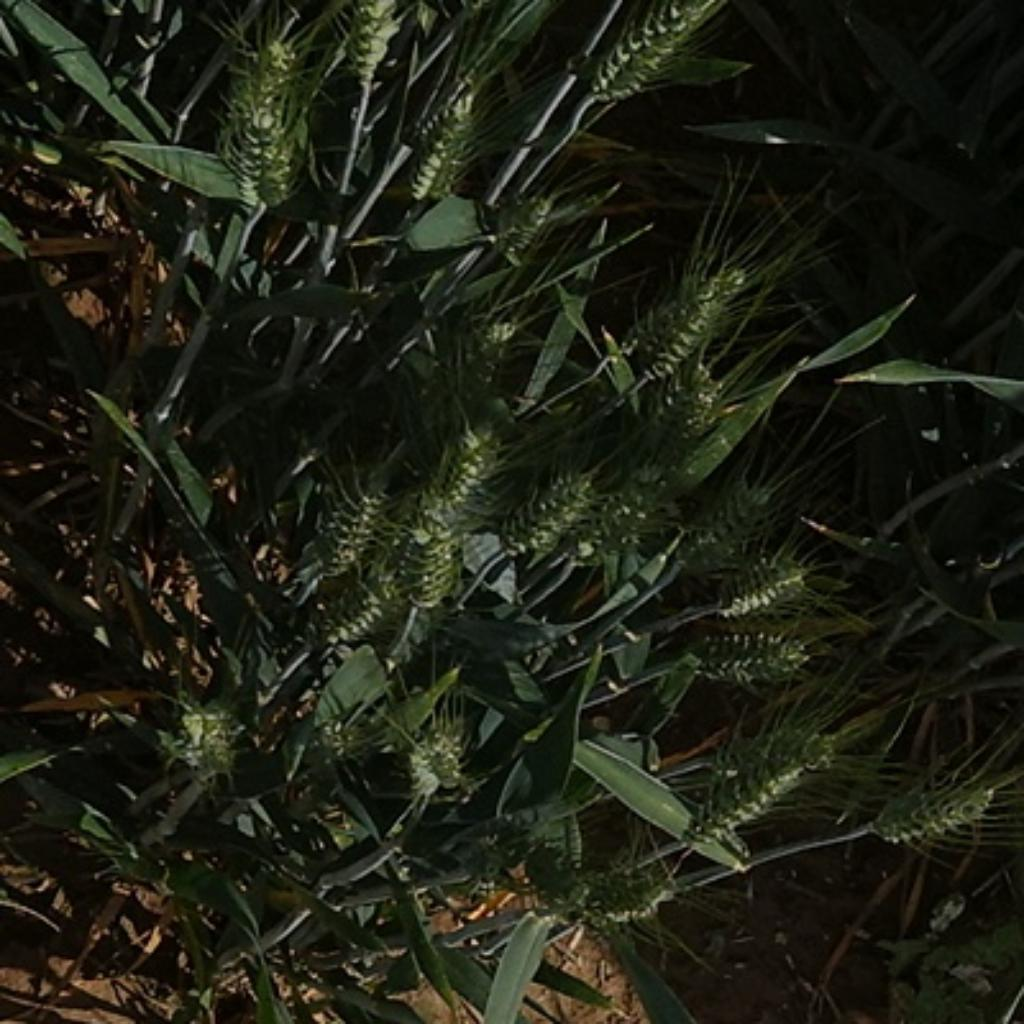0-0: (676, 742, 824, 847), (862, 757, 1011, 849), (586, 2, 706, 112), (638, 261, 748, 380), (401, 69, 488, 199), (564, 473, 674, 568), (680, 614, 816, 688), (683, 476, 788, 568), (499, 463, 599, 558), (580, 865, 694, 946), (617, 293, 741, 365), (422, 432, 506, 527), (222, 120, 309, 209), (403, 509, 468, 627), (705, 722, 859, 771), (319, 485, 407, 568), (232, 35, 304, 130), (716, 552, 821, 616), (401, 716, 480, 801), (444, 309, 523, 391), (340, 2, 404, 102), (326, 572, 408, 650), (170, 697, 242, 773), (482, 190, 553, 252), (666, 370, 733, 433), (460, 841, 523, 902)
